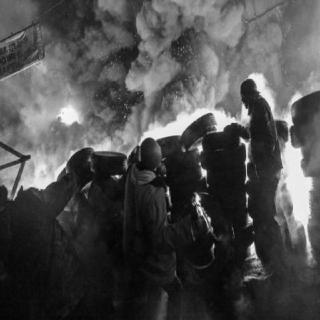Fire: (279, 90, 319, 240)
